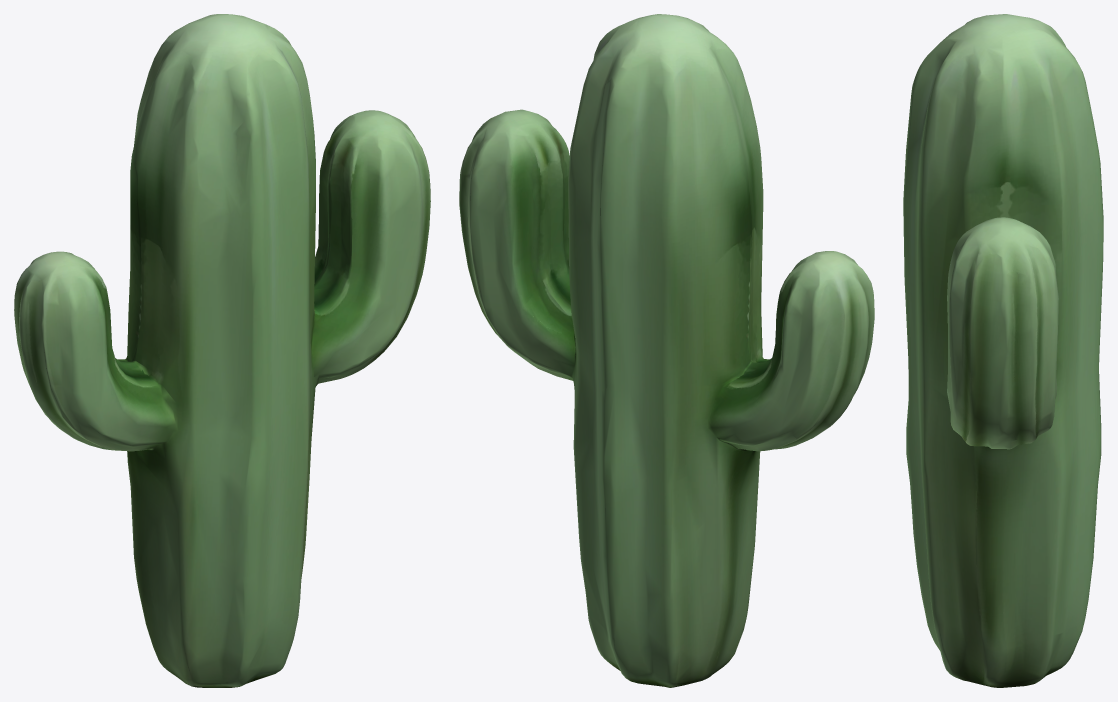
The model's file is cactus_textured.glb.
3 views of the same model, side by side, from view 1: azimuth 30°, elevation 25°; view 2: azimuth 150°, elevation 25°; view 3: azimuth 270°, elevation 25° (orthographic).
Visible parts, largest first — view 1: temp_mesh.ply; view 2: temp_mesh.ply; view 3: temp_mesh.ply.
Boxes of the visible parts, x1,y1,x2,y2 form: temp_mesh.ply: (14, 14, 430, 687); temp_mesh.ply: (459, 14, 874, 687); temp_mesh.ply: (903, 14, 1103, 687).
Size of the model in its own units: 1.29 by 1.99 by 0.5543.
1 material, 1 textured.
